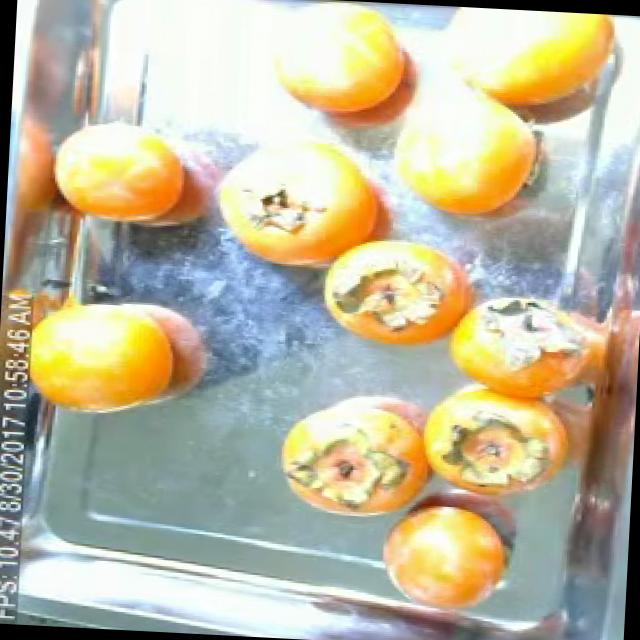Fruit: (4, 274, 213, 434), (260, 376, 460, 532), (301, 224, 488, 360), (362, 491, 524, 617)
